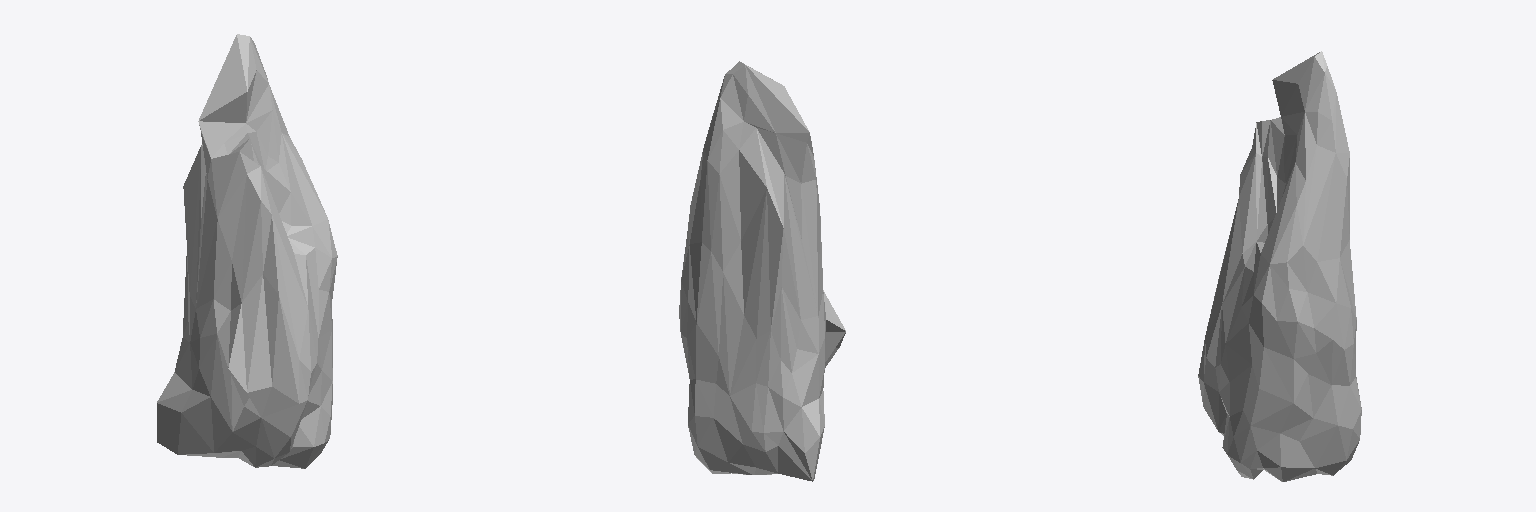
The model's file is Rock1.obj.
3 views of the same model, side by side, from view 1: azimuth 30°, elevation 25°; view 2: azimuth 150°, elevation 25°; view 3: azimuth 270°, elevation 25° (orthographic).
Parts seen in each view (by area): view 1: Group21117; view 2: Group21117; view 3: Group21117.
Boxes of the visible parts, box(x1,y1,x2,y2) form: Group21117: box(157, 34, 337, 468); Group21117: box(679, 61, 845, 481); Group21117: box(1198, 51, 1361, 481).
Bounding box in the file's own units: 3.64 × 9.47 × 3.41.